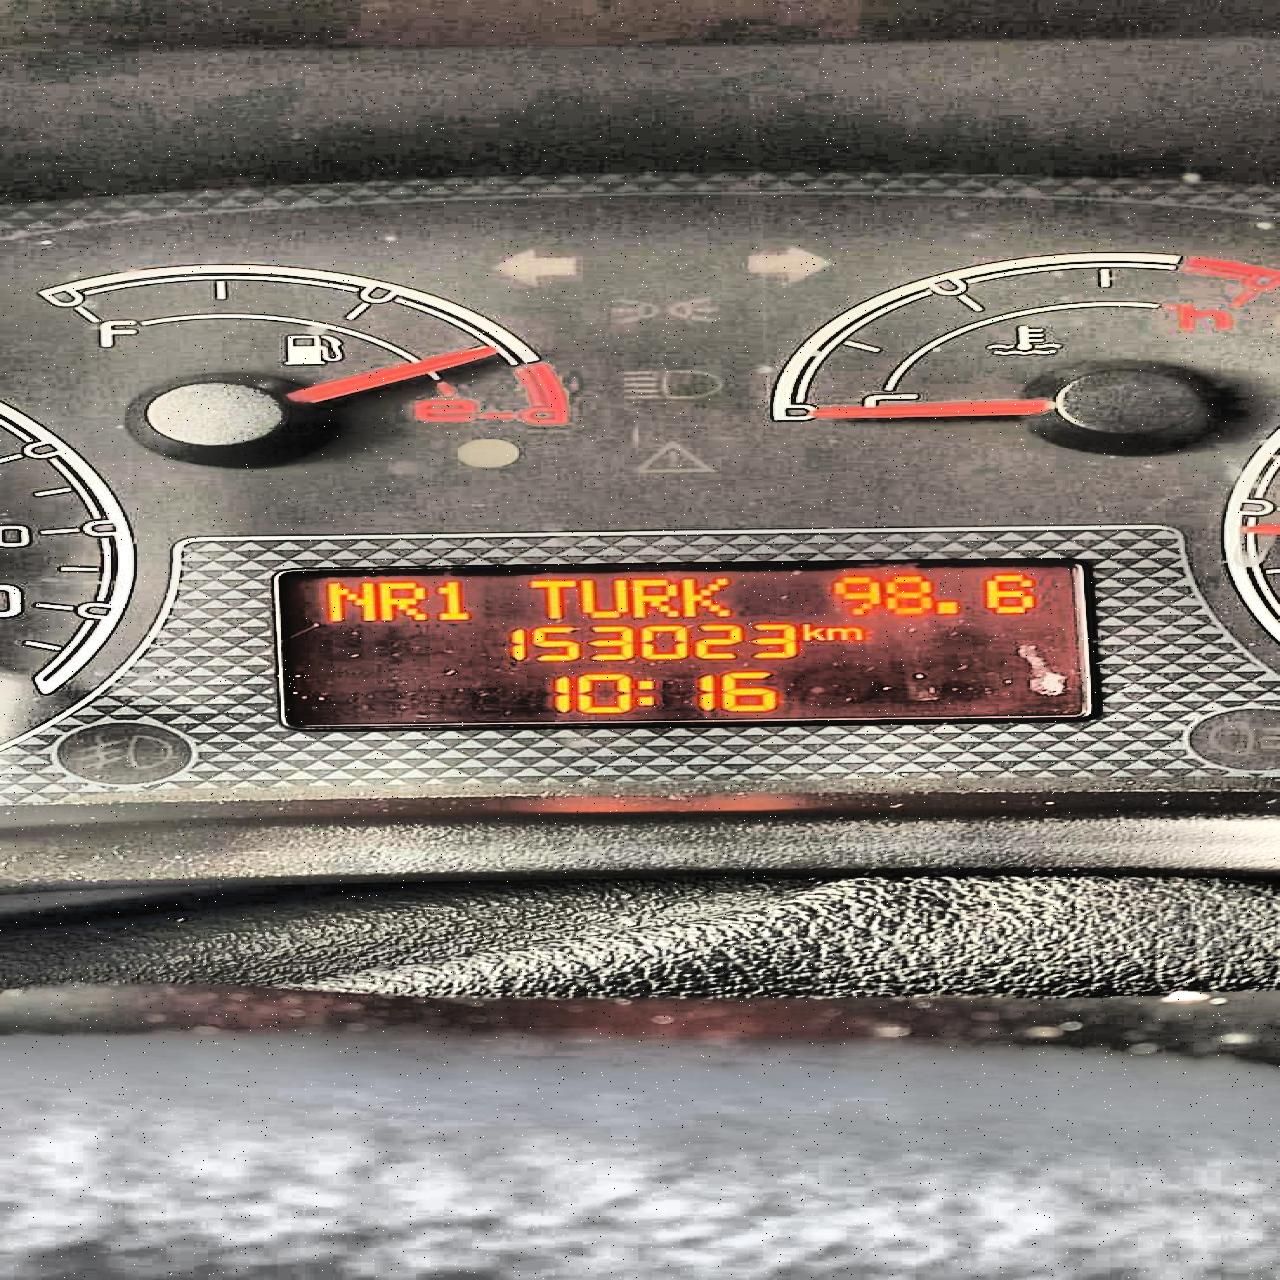-: (937, 598, 962, 615)
0: (574, 670, 629, 715), (636, 622, 687, 661)
1: (434, 580, 477, 626), (543, 672, 572, 717), (505, 622, 530, 665), (694, 669, 716, 713)
2: (694, 620, 738, 660)
3: (750, 620, 795, 661), (586, 624, 632, 662)
5: (531, 624, 578, 662)
6: (976, 568, 1042, 618), (721, 669, 784, 712)
8: (885, 573, 937, 618)
9: (832, 574, 879, 618)
X: (632, 576, 683, 620), (685, 576, 737, 618), (578, 578, 629, 620), (322, 580, 374, 621), (527, 576, 574, 619), (379, 580, 427, 621), (635, 676, 659, 709), (829, 625, 869, 642), (798, 621, 829, 642)
odometer: (274, 558, 1115, 724)
